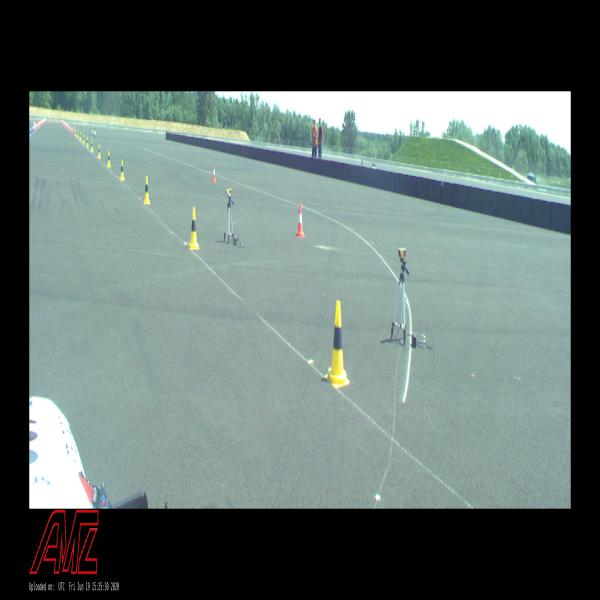blue_cone: (30, 126, 32, 134), (32, 124, 33, 132)
large_orange_cone: (74, 125, 76, 135), (34, 119, 35, 131)
orange_cone: (296, 204, 305, 237), (212, 164, 216, 182)
yellow_cone: (324, 301, 350, 388), (188, 207, 200, 250), (144, 177, 150, 204), (120, 160, 125, 180), (107, 151, 111, 167), (98, 145, 102, 158), (90, 140, 94, 152), (86, 137, 89, 147), (79, 132, 82, 142), (83, 134, 85, 144), (77, 130, 79, 139), (75, 129, 77, 136)
